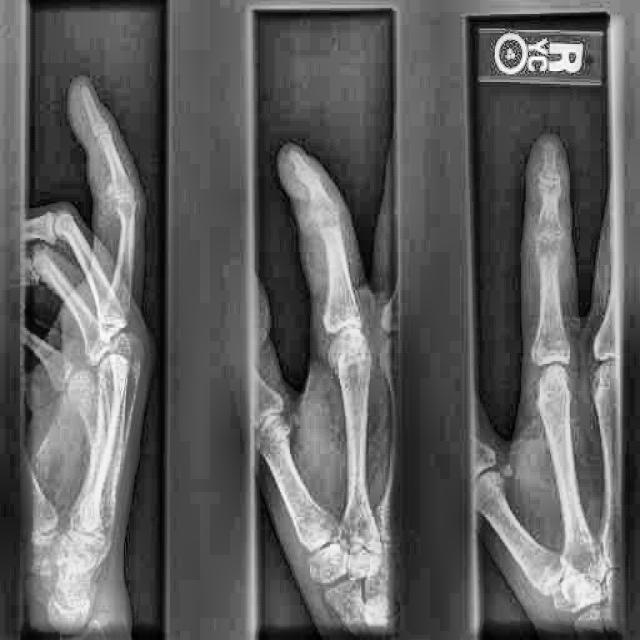fingers positive: (299, 192, 351, 248)
